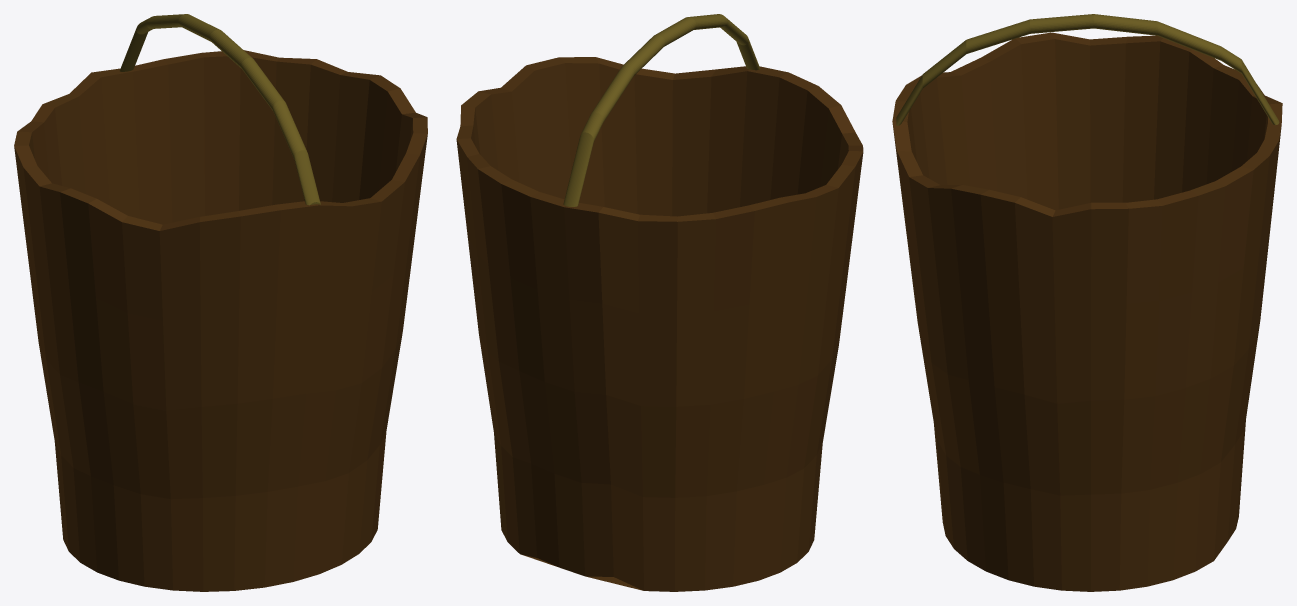
Rendered from empty-bucket.fbx.
The picture shows the model from 3 angles, left to right: view 1: azimuth 30°, elevation 25°; view 2: azimuth 150°, elevation 25°; view 3: azimuth 270°, elevation 25°; orthographic projection. The views are drawn at different scales.
Parts seen in each view (by area): view 1: Cylinder, Cylinder.001; view 2: Cylinder, Cylinder.001; view 3: Cylinder, Cylinder.001.
Part boxes in pixels (<box>): Cylinder: <box>14,50,427,591</box>; Cylinder.001: <box>119,14,320,205</box>; Cylinder: <box>456,57,863,591</box>; Cylinder.001: <box>563,14,760,206</box>; Cylinder: <box>892,32,1282,591</box>; Cylinder.001: <box>896,14,1279,125</box>.
Bounding box in the file's own units: 187 × 247 × 172.
